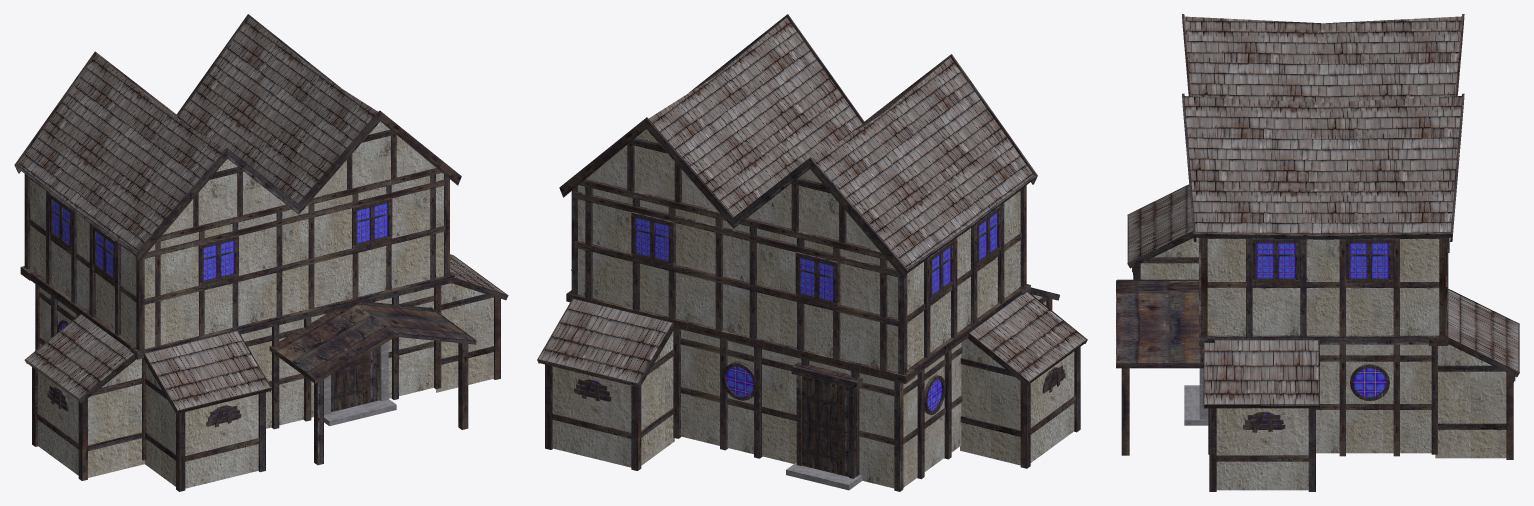
Rendered from house15.dae.
The picture shows the model from 3 angles, left to right: view 1: azimuth 30°, elevation 25°; view 2: azimuth 150°, elevation 25°; view 3: azimuth 270°, elevation 25°; orthographic projection. The views are drawn at different scales.
Parts seen in each view (by area): view 1: House1_Roof, House1_Level2, House1_Level2_Beams, BuildingExtensions4, BuildingExtensions4_003, Roof1Outer, BuildingExtensions4Roof, House1_Roof_Frame, House1_Level1, BuildingExtensions4Roof_003, House1_Level1_Beams, House1_Level1_SeperatorBeams (+18 smaller); view 2: House1_Roof, House1_Level2, House1_Level2_Beams, House1_Level1, BuildingExtensions4_001, BuildingExtensions4_003, House1_Level1_Beams, BuildingExtensions4Roof_001, House1_Roof_Frame, BuildingExtensions4Roof_003, House1_Level1_SeperatorBeams, Door1 (+13 smaller); view 3: House1_Roof, House1_Level2, House1_Level1, BuildingExtensions4Roof_002, Roof1Outer, BuildingExtensions4_002, BuildingExtensions4_001, House1_Level2_Beams, House1_Level1_Beams, BuildingExtensions4Roof_001, House1_Roof_Frame, BuildingExtensions4Roof (+18 smaller).
Part boxes in pixels (bbox=[...]): House1_Roof: bbox=[18, 17, 377, 251]; House1_Level2: bbox=[30, 121, 443, 348]; House1_Level2_Beams: bbox=[24, 129, 449, 350]; BuildingExtensions4: bbox=[144, 364, 258, 488]; BuildingExtensions4_003: bbox=[38, 358, 144, 477]; Roof1Outer: bbox=[271, 302, 473, 379]; BuildingExtensions4Roof: bbox=[145, 331, 270, 409]; House1_Roof_Frame: bbox=[14, 14, 461, 261]; House1_Level1: bbox=[40, 287, 433, 428]; BuildingExtensions4Roof_003: bbox=[26, 314, 133, 398]; House1_Level1_Beams: bbox=[35, 284, 441, 460]; House1_Level1_SeperatorBeams: bbox=[20, 266, 454, 359]; House1_Roof: bbox=[648, 17, 1033, 267]; House1_Level2: bbox=[578, 129, 1020, 372]; House1_Level2_Beams: bbox=[571, 138, 1026, 374]; House1_Level1: bbox=[681, 329, 961, 488]; BuildingExtensions4_001: bbox=[552, 331, 674, 467]; BuildingExtensions4_003: bbox=[960, 338, 1074, 465]; House1_Level1_Beams: bbox=[673, 328, 962, 491]; BuildingExtensions4Roof_001: bbox=[539, 299, 672, 382]; House1_Roof_Frame: bbox=[559, 14, 1037, 278]; BuildingExtensions4Roof_003: bbox=[970, 292, 1085, 380]; House1_Level1_SeperatorBeams: bbox=[566, 284, 1030, 383]; Door1: bbox=[802, 376, 848, 476]; House1_Roof: bbox=[1184, 16, 1461, 233]; House1_Level2: bbox=[1207, 239, 1439, 335]; House1_Level1: bbox=[1316, 344, 1431, 453]; BuildingExtensions4Roof_002: bbox=[1204, 340, 1318, 405]; Roof1Outer: bbox=[1117, 281, 1203, 362]; BuildingExtensions4_002: bbox=[1216, 408, 1308, 490]; BuildingExtensions4_001: bbox=[1435, 344, 1506, 458]; House1_Level2_Beams: bbox=[1201, 237, 1447, 336]; House1_Level1_Beams: bbox=[1208, 344, 1437, 456]; BuildingExtensions4Roof_001: bbox=[1448, 290, 1518, 371]; House1_Roof_Frame: bbox=[1182, 14, 1464, 241]; BuildingExtensions4Roof: bbox=[1128, 185, 1192, 262].
Bounding box in the file's own units: 10.92 × 8.36 × 7.57.
Materials: 21 (21 with a texture image).
